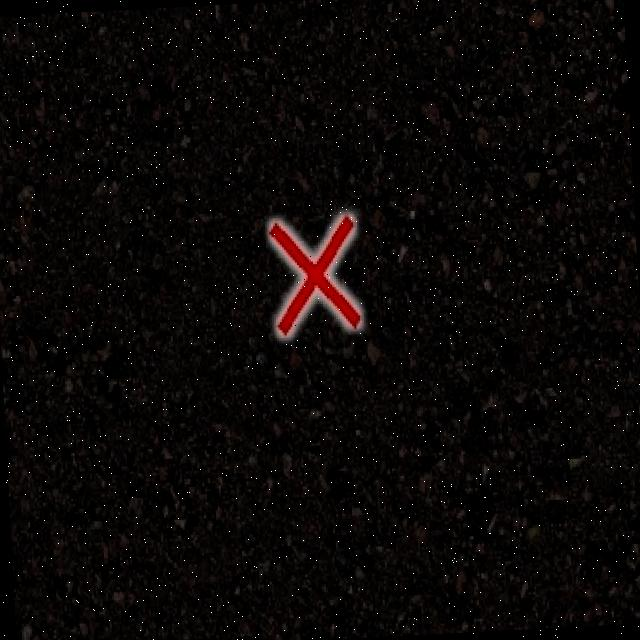x_marker: (270, 215, 360, 334)
